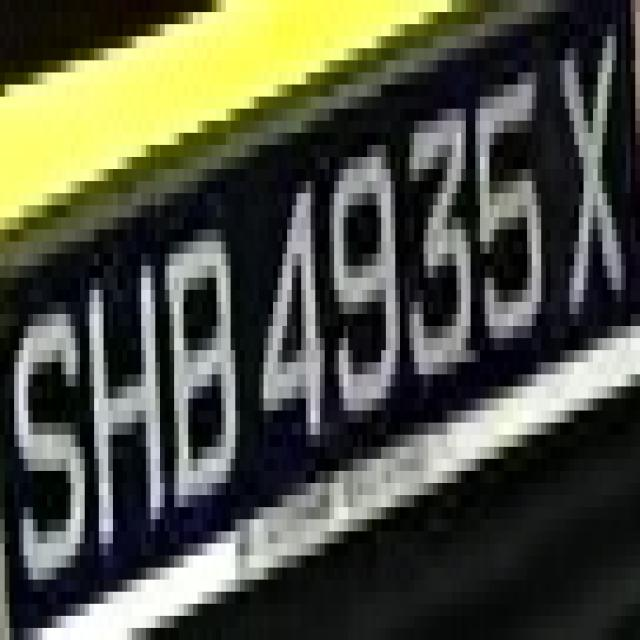3: (400, 72, 475, 422)
4: (230, 157, 338, 483)
5: (456, 61, 556, 387)
9: (310, 121, 404, 459)
B: (160, 169, 240, 531)
H: (85, 205, 179, 568)
S: (0, 253, 89, 615)
X: (556, 12, 636, 362)
